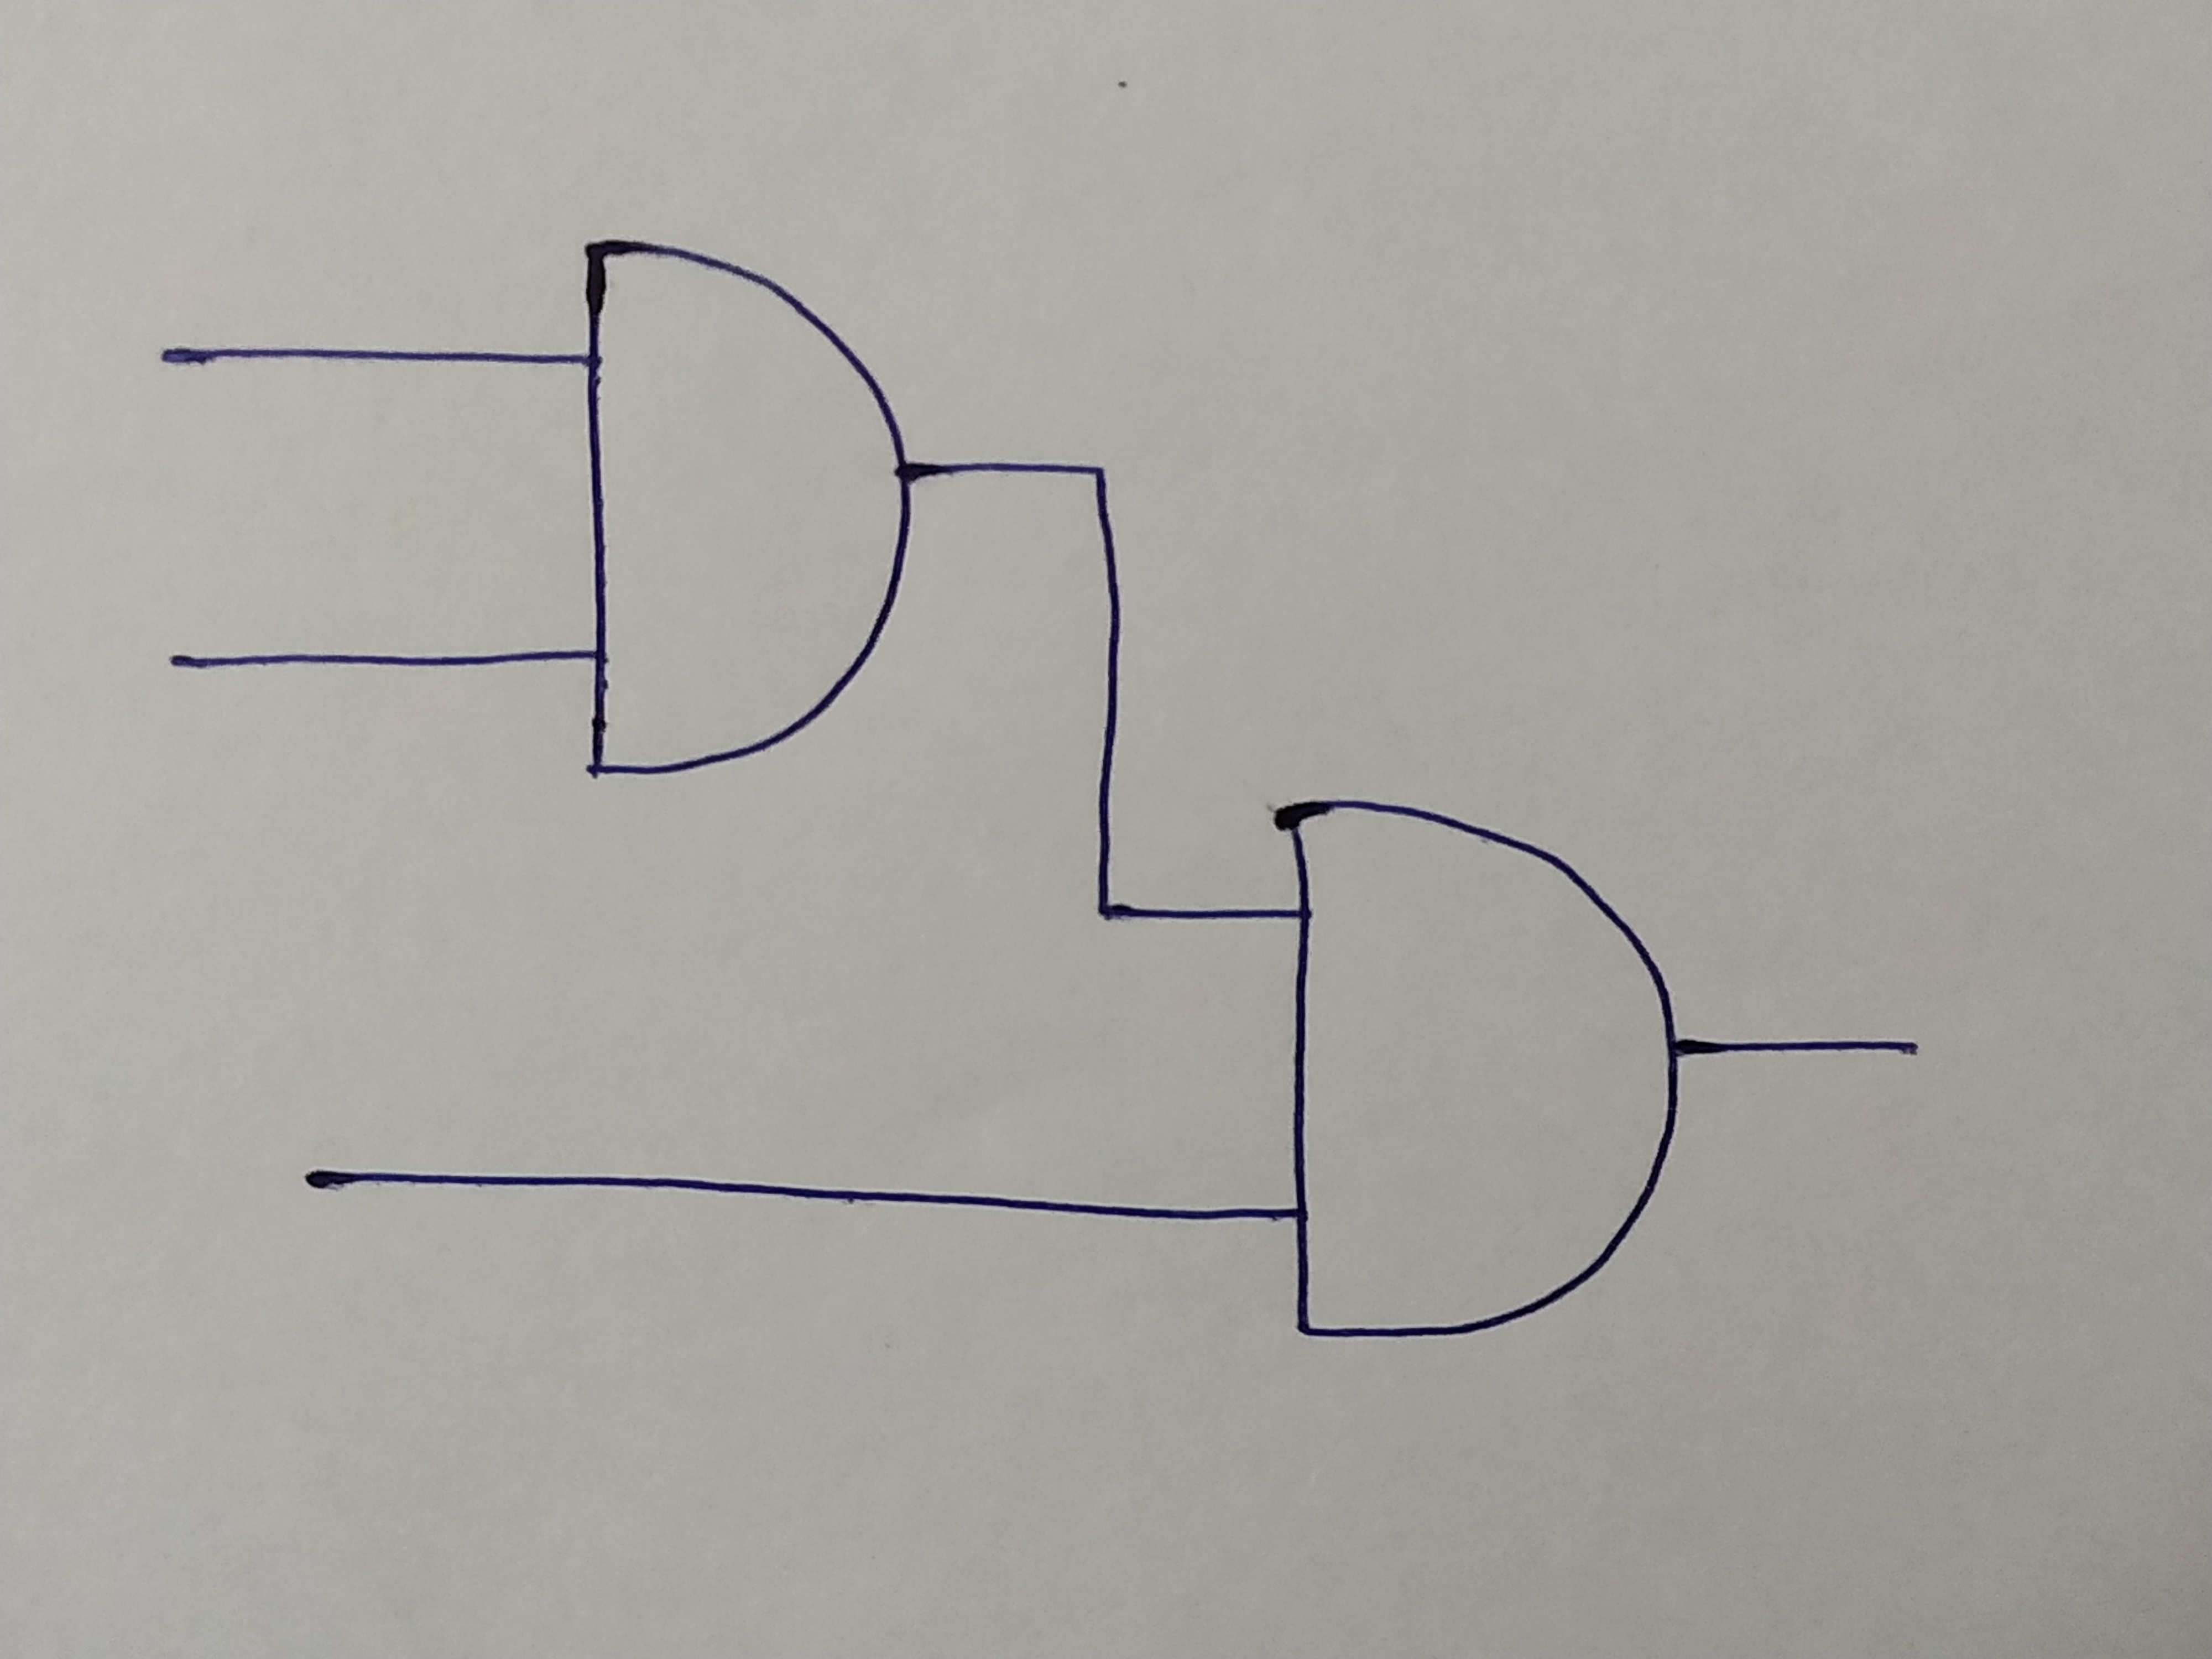and: (1273, 800, 1677, 1345), (582, 242, 914, 772)
